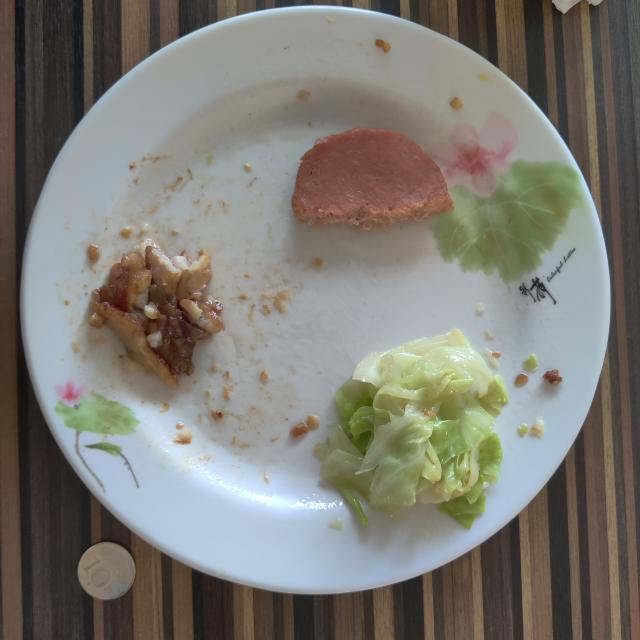Kabayaki sea bream fillet: (89, 239, 225, 388)
Spam: (291, 128, 454, 230)
cabbage: (314, 329, 509, 529)
coin: (78, 541, 135, 600)
